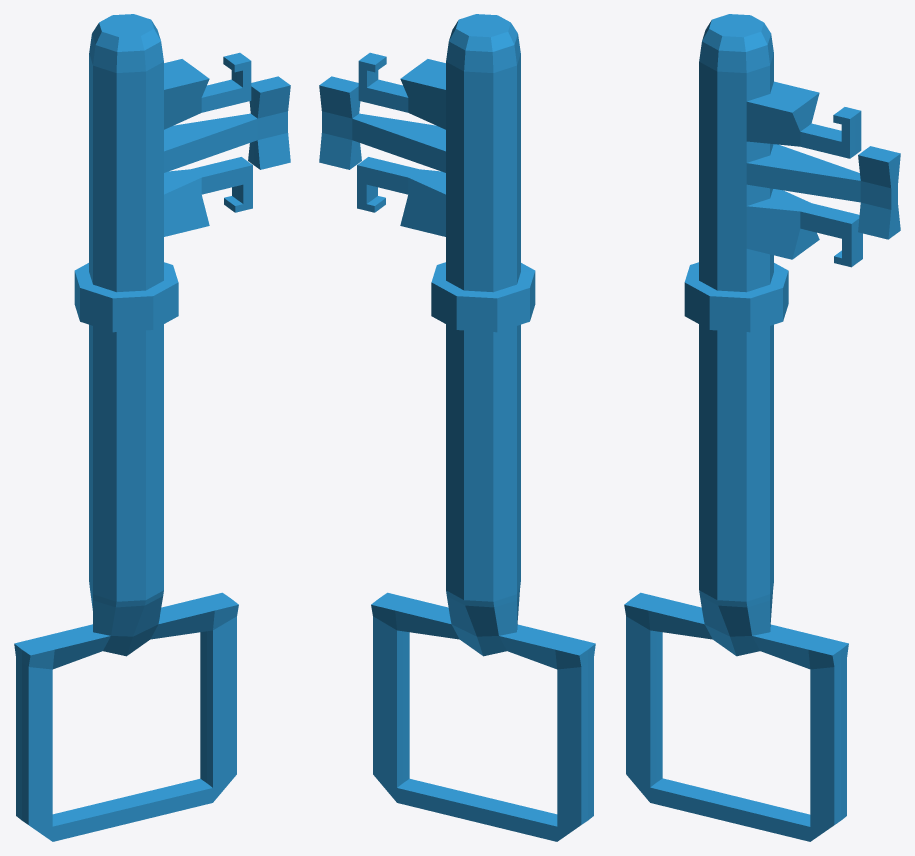
Rendered from Chave_1.fbx.
The picture shows the model from 3 angles, left to right: view 1: azimuth 30°, elevation 25°; view 2: azimuth 150°, elevation 25°; view 3: azimuth 330°, elevation 25°; orthographic projection.
Visible parts, largest first — view 1: Cilindro; view 2: Cilindro; view 3: Cilindro.
Boxes of the visible parts, left/top/right/bottom form: Cilindro: left=14, top=14, right=290, bottom=841; Cilindro: left=319, top=14, right=595, bottom=841; Cilindro: left=624, top=14, right=900, bottom=841.
Size of the model in its own units: 94.83 by 273 by 33.62.
